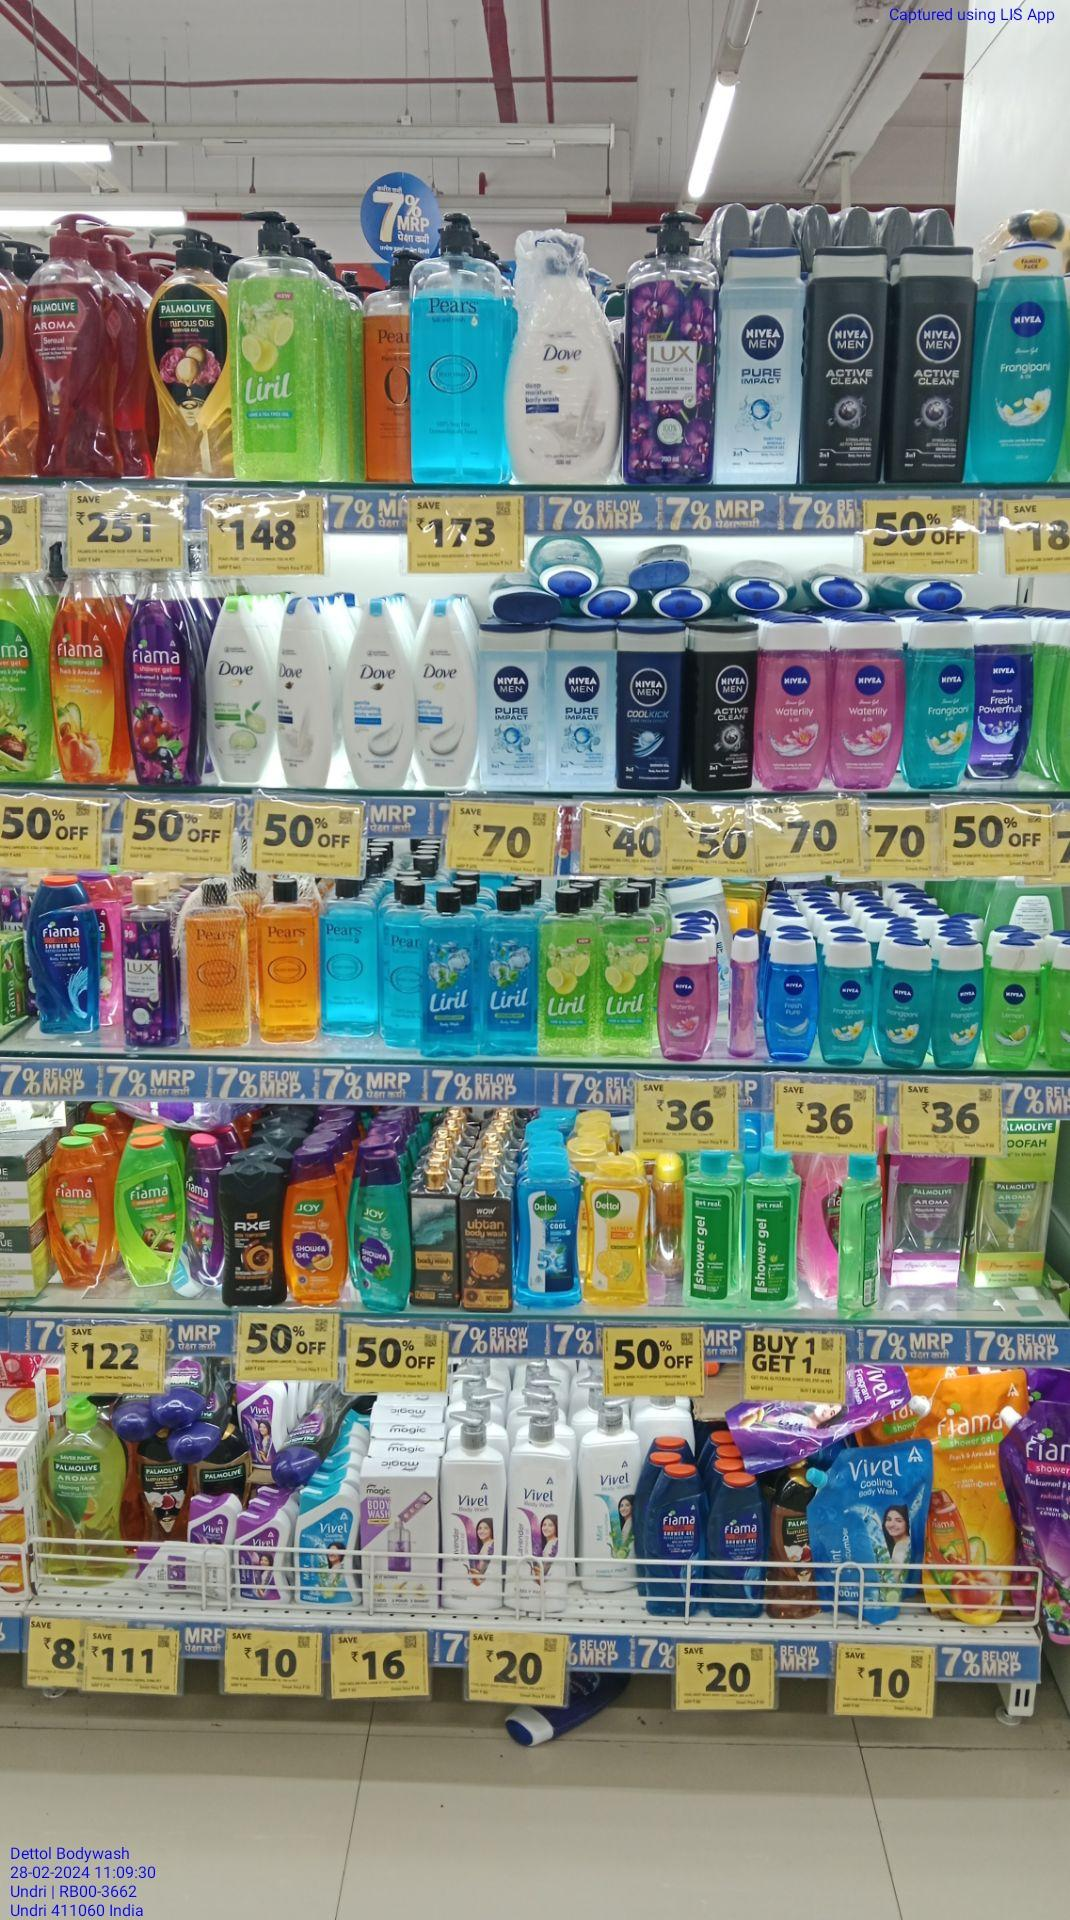Dettol_Bodywash_Cool: (515, 1154, 578, 1311)
Dettol_Bodywash_Refresh: (584, 1156, 646, 1311)
Dove_Deep_Moisture_Body_Wash_250ML: (278, 597, 332, 785)
Dove_Gentle_Exfoliating_Body_Wash_250ML: (345, 601, 411, 795), (412, 597, 474, 792)
Dove_Refreshing_Body_Wash_250ML: (202, 594, 273, 784)
Fiama_Shower_Gel_Lemongrass_and_Jojoba_250ML: (115, 1136, 182, 1291)
Fiama_Shower_Gel_Peach_and_Avocado_250ML: (49, 1137, 104, 1293)
Joy_Shower_Gel_Mandarin_and_Lemongrass_250ML: (285, 1148, 343, 1309)
Joy_Shower_Gel_Mint_and_Eucalyptus_250ML: (349, 1161, 408, 1314)
Liril_Cooling_Mint_Body_Wash_250ML: (478, 888, 534, 1059), (424, 892, 476, 1061)
Liril_Lime_and_Tea_Tree_Oil_Body_Wash_250ML: (540, 886, 597, 1063), (601, 888, 659, 1059)
Lux_Black_Orchid_Scent_and_Juniper_Oil_Body_Wash_245ML: (117, 887, 170, 1056)
Nivea_Shower_Gel_Frangipani_and_Oil_250ML: (976, 236, 1070, 489), (909, 615, 972, 793), (825, 937, 872, 1066), (880, 942, 928, 1069), (937, 942, 982, 1071)
Nivea_Shower_Gel_Fresh_Powerfruit_250ML: (975, 611, 1036, 781)
Nivea_Shower_Gel_Lemon_and_Oil_250ML: (992, 940, 1044, 1070)
Nivea_Shower_Gel_Waterlily_and_Oil_250ML: (762, 611, 829, 796), (834, 611, 899, 792)
